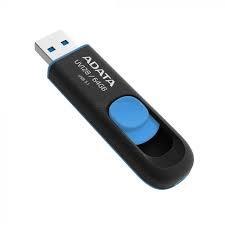Flash-drive: (20, 21, 205, 201)
